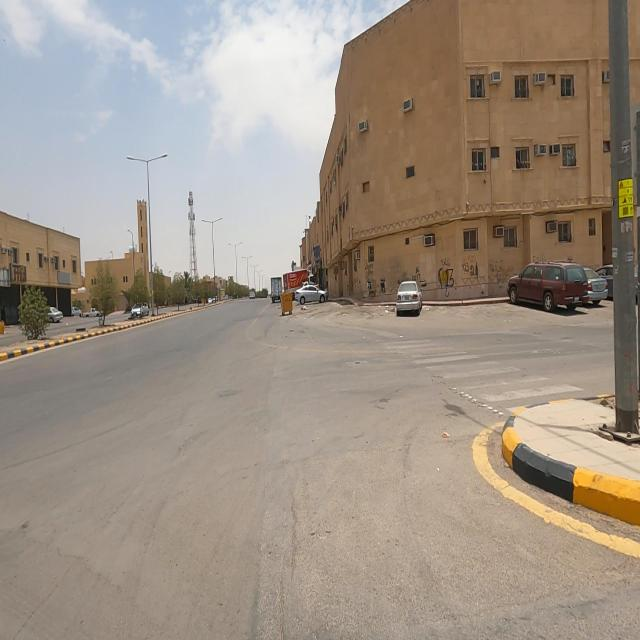Graffiti: (490, 260, 509, 288), (439, 259, 455, 289), (463, 255, 481, 280), (411, 267, 425, 282), (366, 262, 374, 279), (534, 255, 546, 263), (398, 279, 403, 286)
